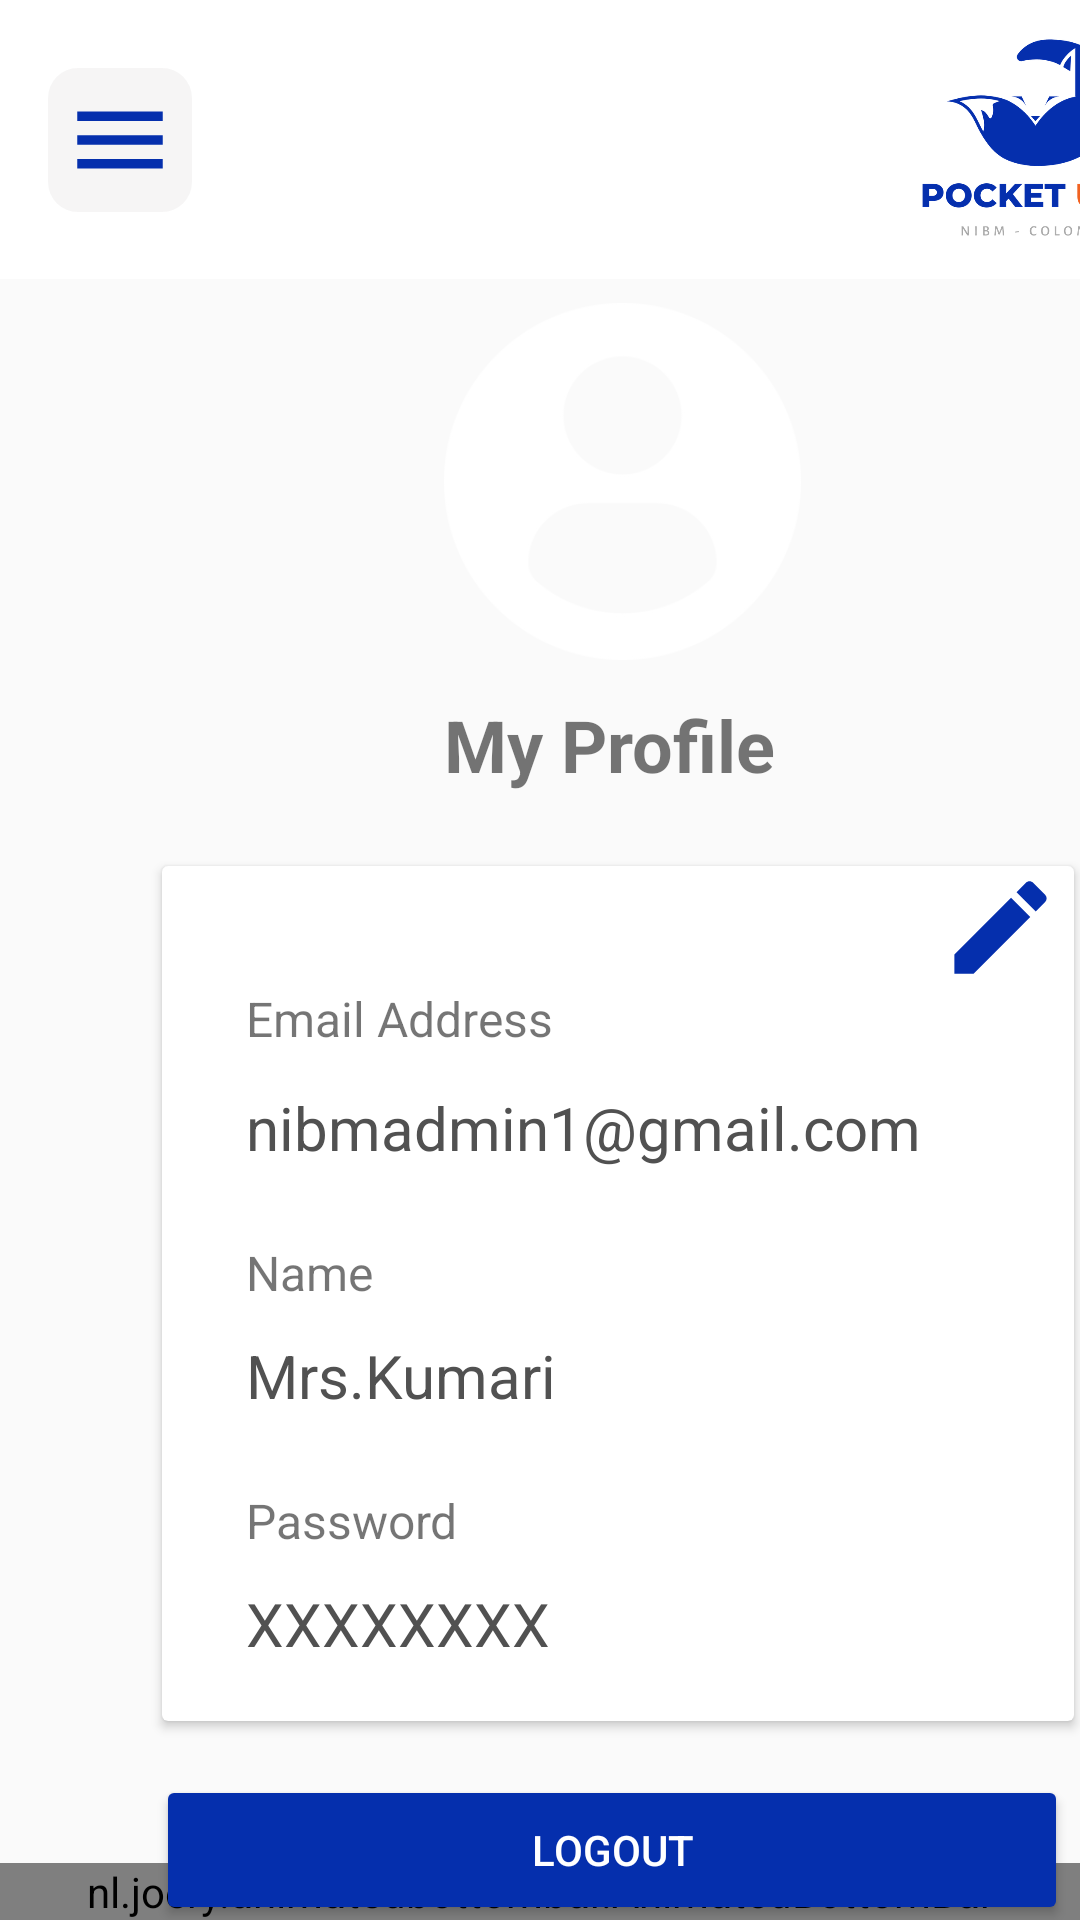

Icons on this 1080px×1920px Android screen, each with the point to tap as (x,y):
edit: (1000,927)
menu: (120,140)
